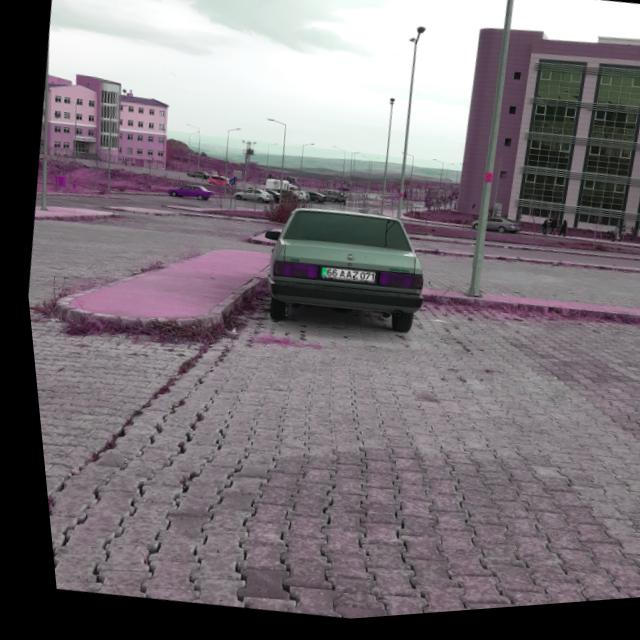license_plate: (313, 267, 370, 291)
